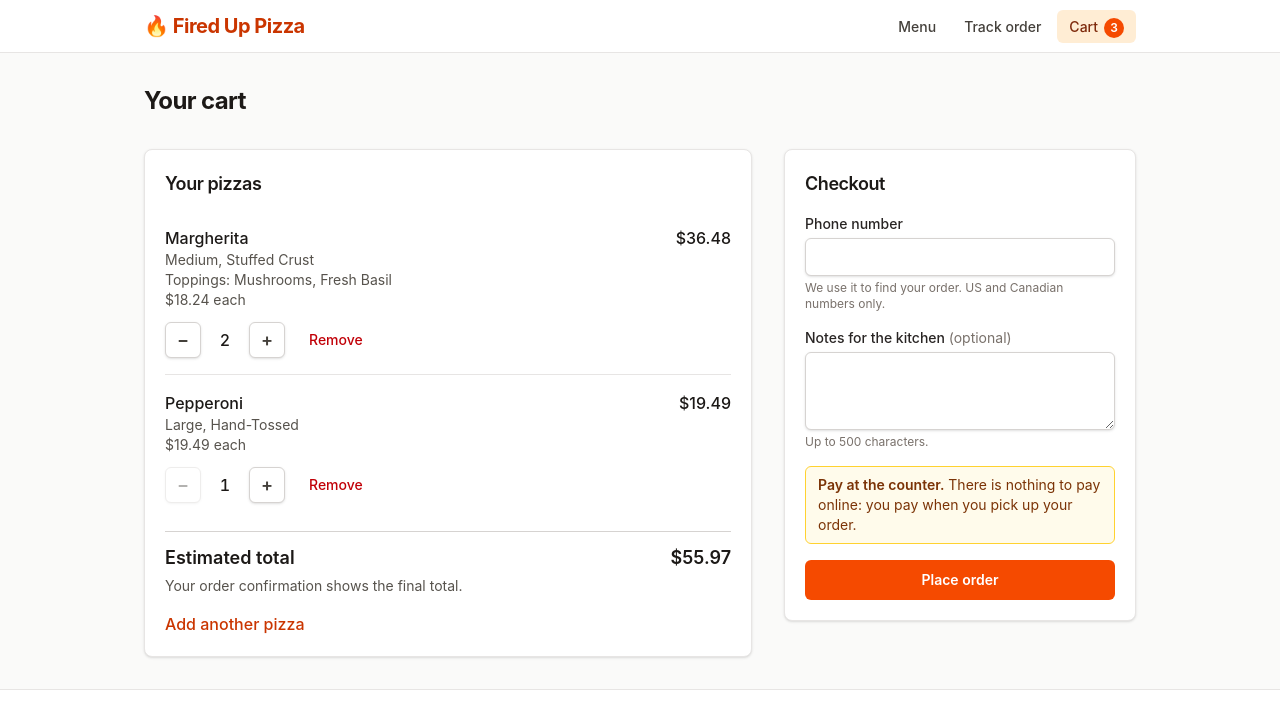
Scenario: CartPage › lines › removes a line and moves focus to the list heading
Click the button named "Remove Pepperoni": (336, 485) [301,471,371,499]
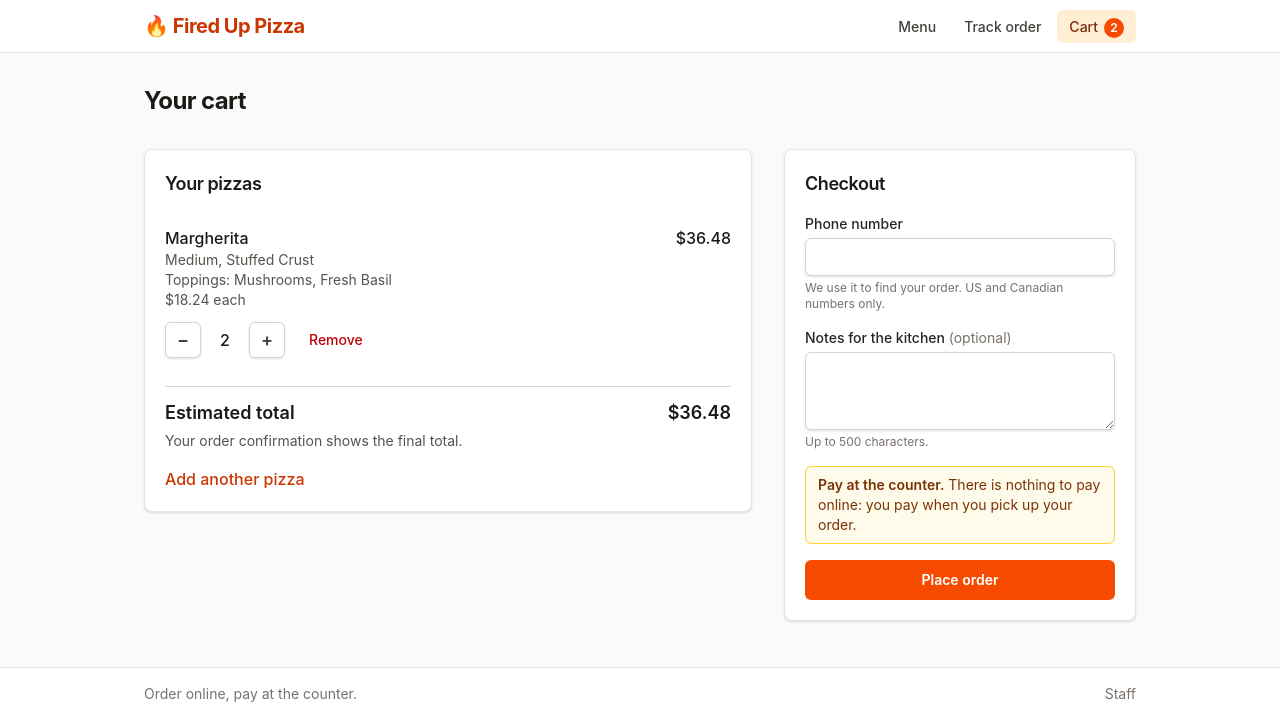
Result: the text "Pepperoni" is gone
